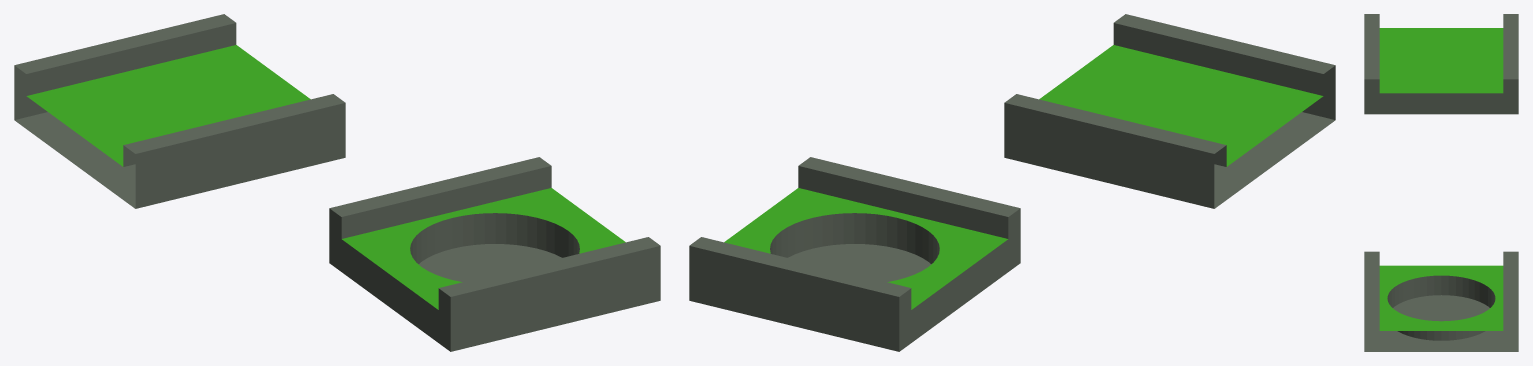
File: FanElevator.fbx
3 views of the same model, side by side, from view 1: azimuth 30°, elevation 25°; view 2: azimuth 150°, elevation 25°; view 3: azimuth 270°, elevation 25° (orthographic). The views are drawn at different scales.
Visible parts, largest first — view 1: Straight.005; view 2: Straight.005; view 3: Straight.005.
Boxes of the visible parts, x1,y1,x2,y2 form: Straight.005: [14, 14, 660, 351]; Straight.005: [689, 14, 1335, 351]; Straight.005: [1364, 14, 1518, 351].
Bounding box in the file's own units: 500 × 250 × 200.
